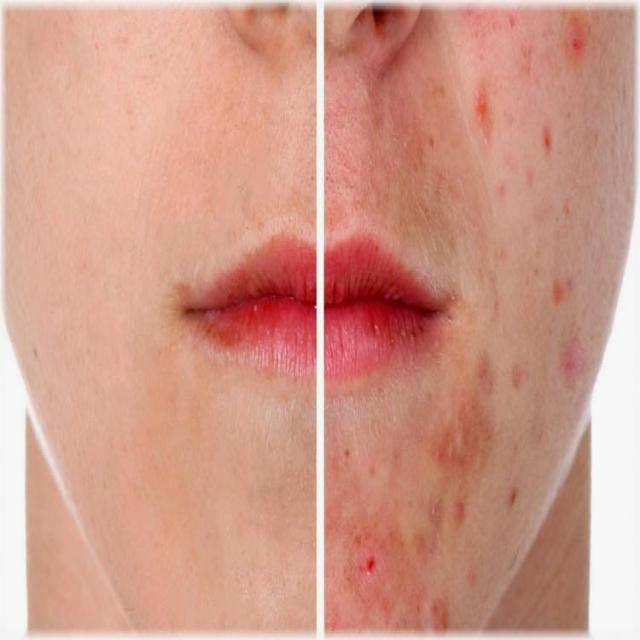Acne: (442, 15, 603, 386), (338, 388, 526, 636)
